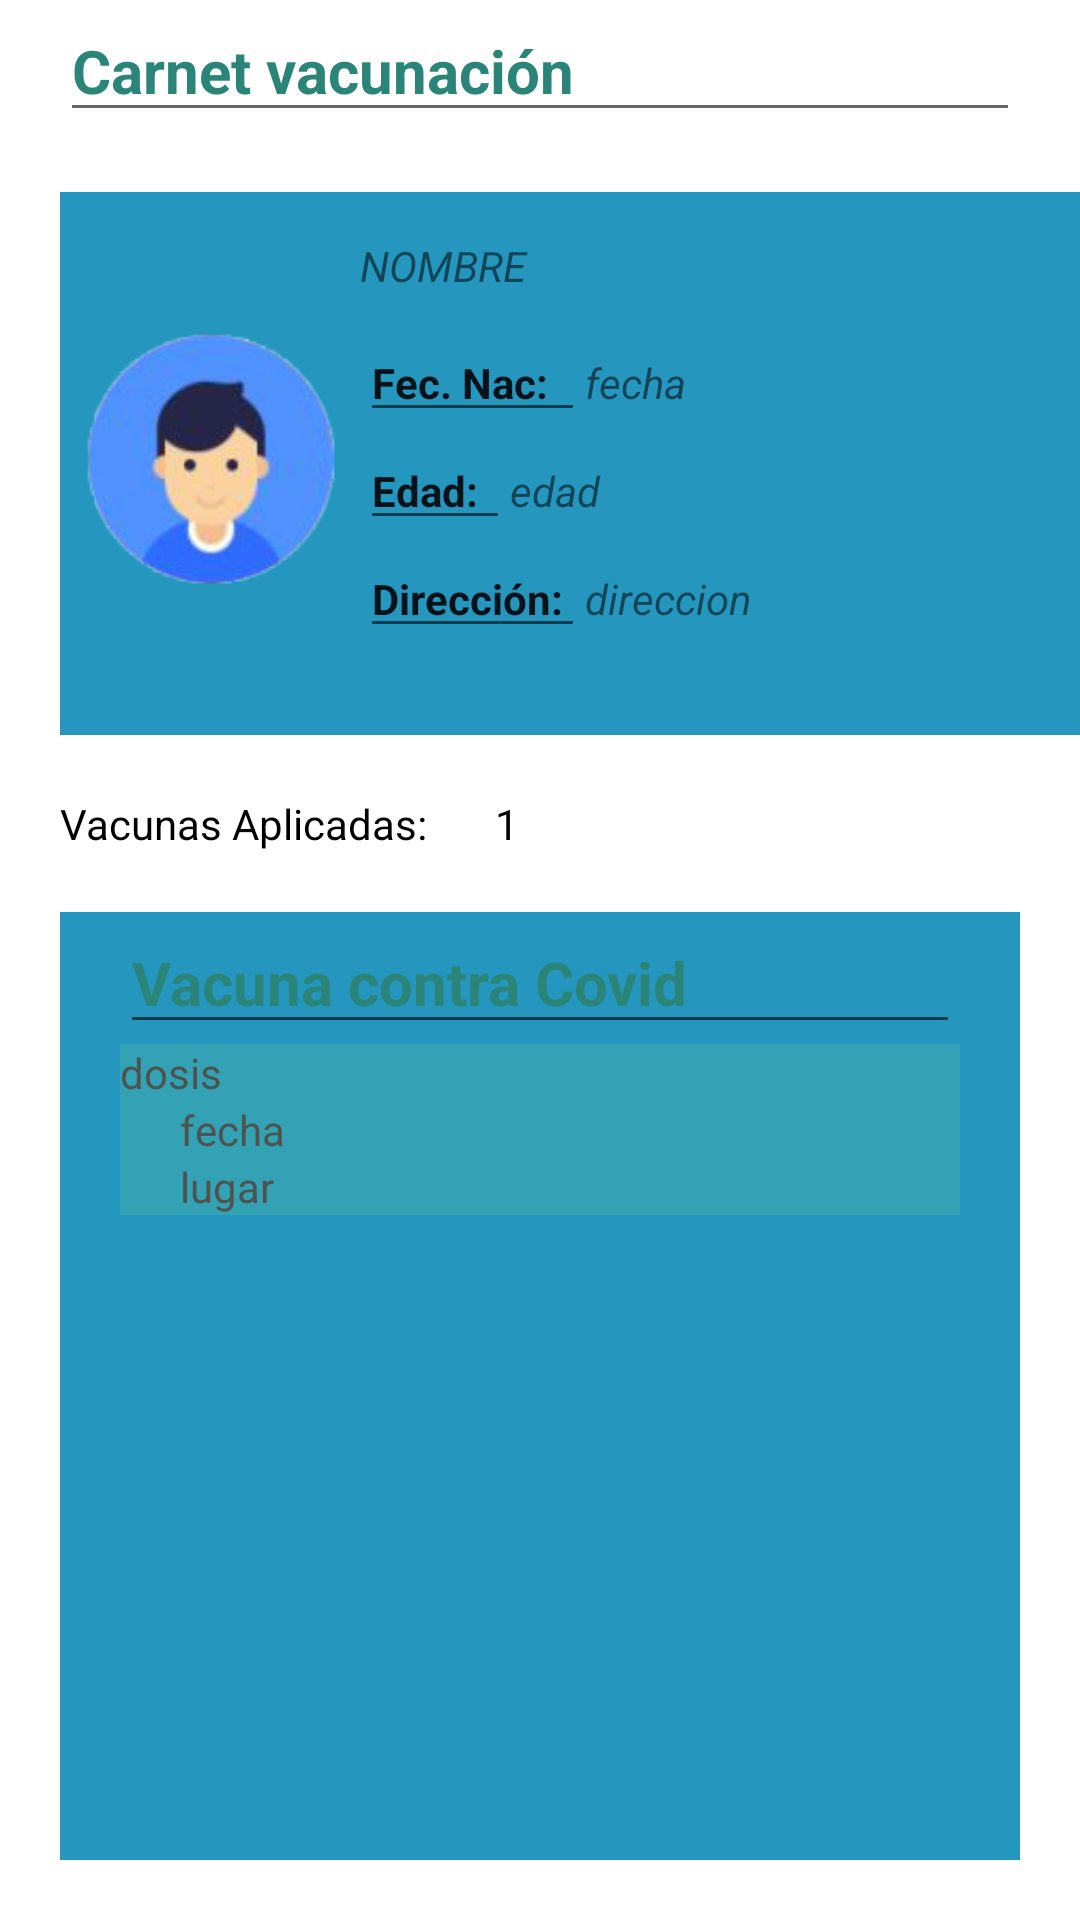

Screen size 1080*1920. Icon name, then its center in pixels as point (x, y):
foto: point (211, 459)
